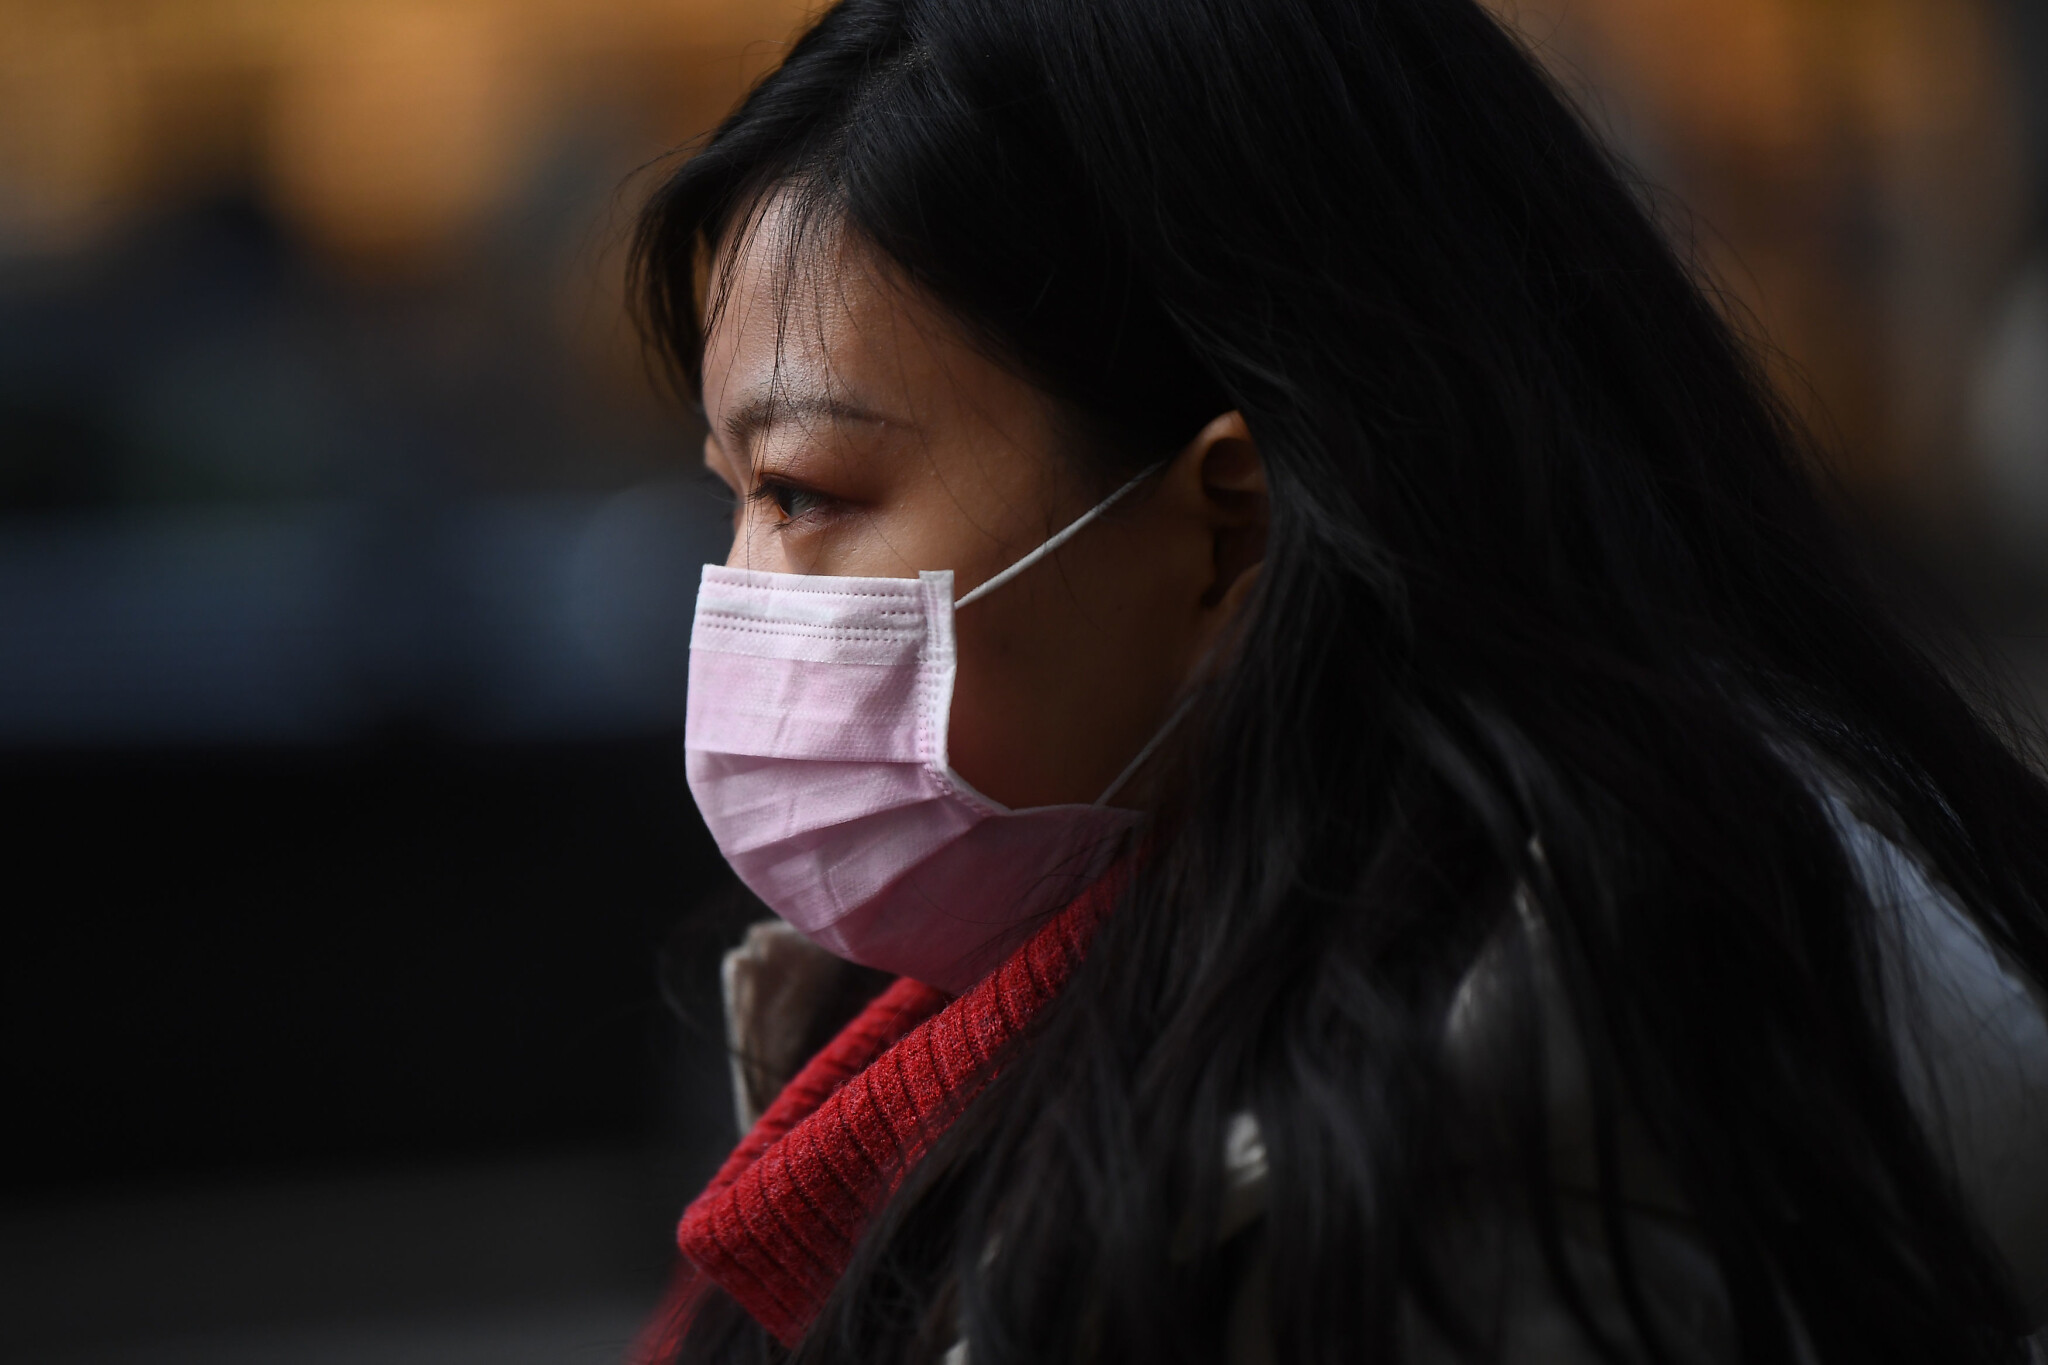surgical: (649, 548, 1147, 1006)
